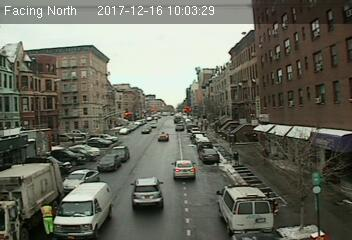car: (128, 177, 166, 210), (60, 168, 101, 191), (172, 160, 198, 182), (98, 153, 122, 171), (111, 145, 131, 161), (199, 148, 219, 164), (157, 131, 169, 143)
police: (217, 181, 278, 235)
truck: (1, 164, 62, 240), (50, 182, 118, 238)
